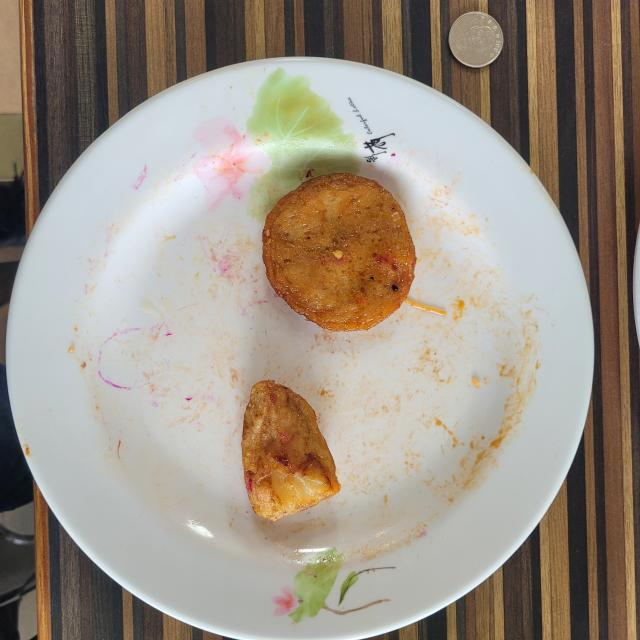coin: (449, 11, 504, 68)
fish cake: (262, 174, 416, 331)
fried potato: (241, 380, 340, 521)
